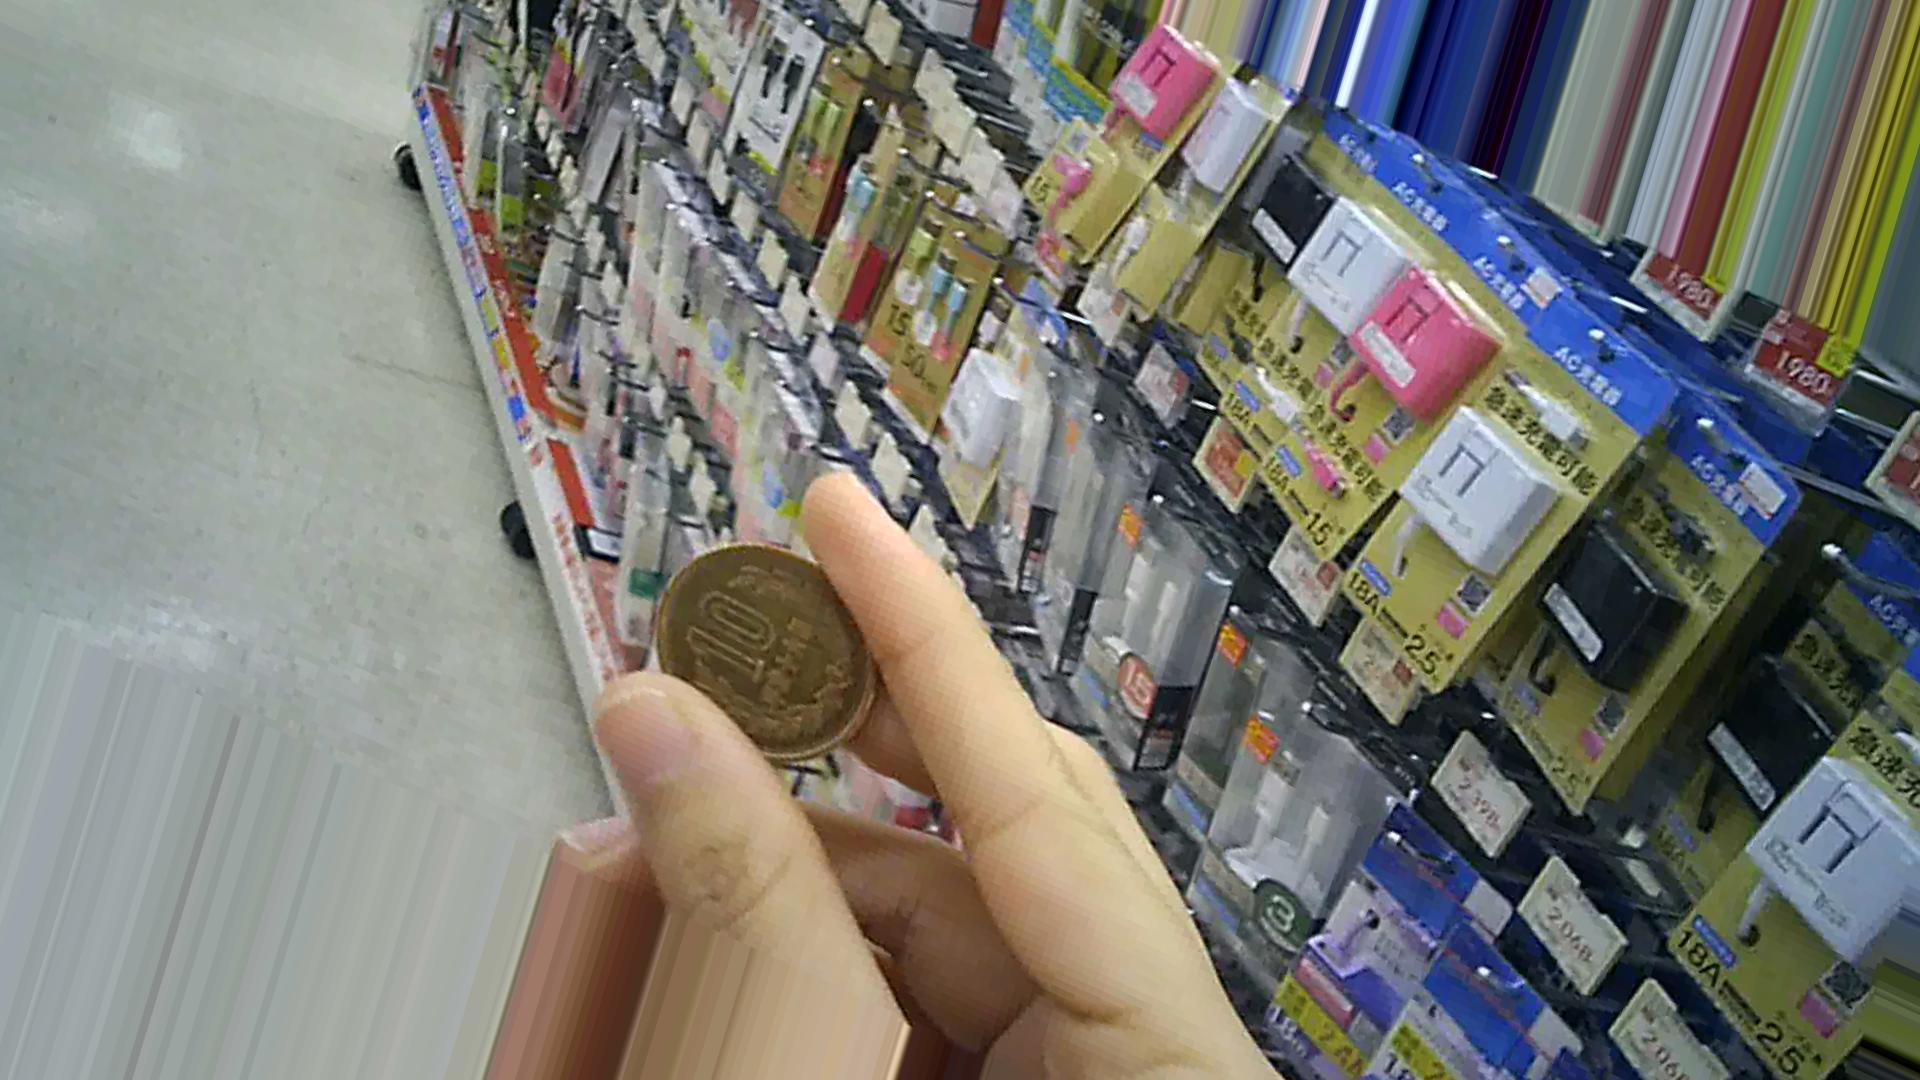10 Yen: (646, 535, 884, 774)
